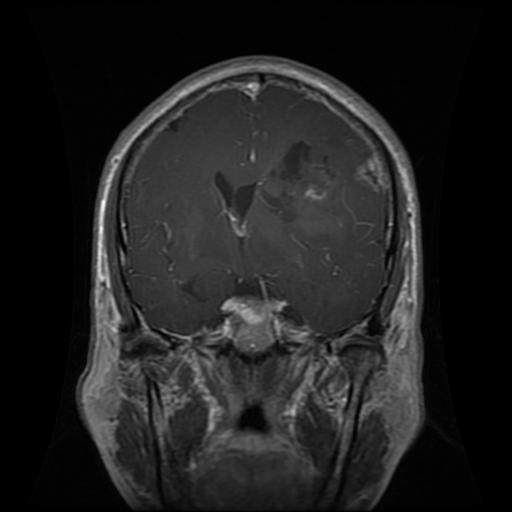Gliomia_tumour: (260, 138, 339, 206)
